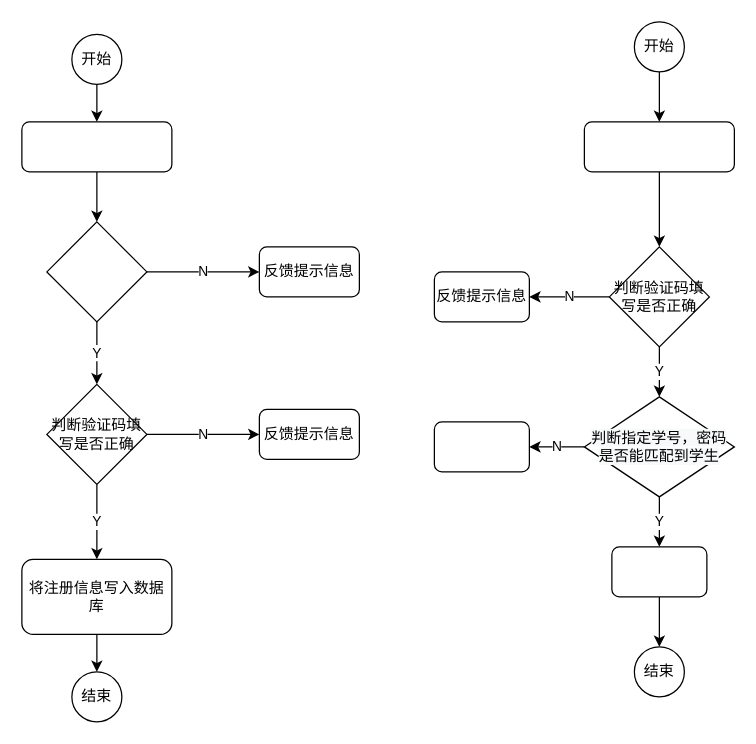
This 756x744 diagram has some shape labels left out. The centre of each missing label's shape, as x and y in pixels:
"反馈失败提示信息" goes at (481,446).
"反馈成功提示信息" goes at (659,571).
"填写学号，密码" goes at (658,146).
"填写学院，班级，身份信息，密码，验证码" goes at (96,146).
"根据选择的班级判断是否已有团支书" goes at (96,271).
